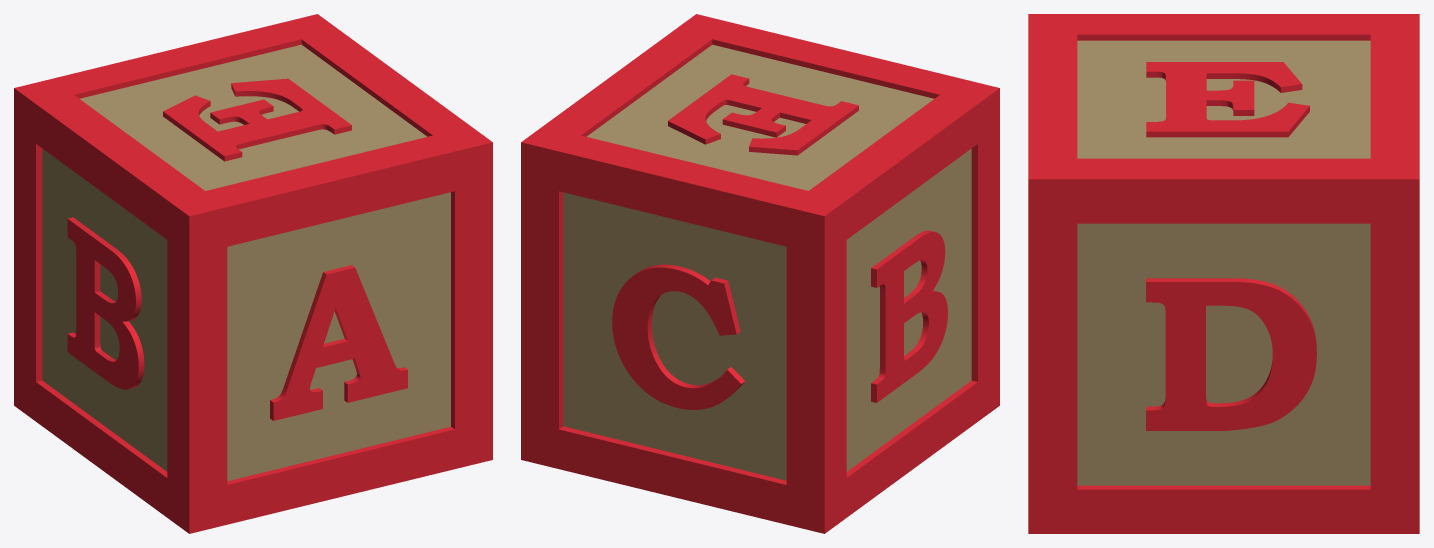
The model's file is ToyBlock.fbx.
The picture shows the model from 3 angles, left to right: view 1: azimuth 30°, elevation 25°; view 2: azimuth 150°, elevation 25°; view 3: azimuth 270°, elevation 25°; orthographic projection. The views are drawn at different scales.
Visible parts, largest first — view 1: Cube, Text.001, Text.002, Text.004; view 2: Cube, Text, Text.002, Text.004; view 3: Cube, Text.003, Text.004.
Part boxes in pixels (left/top/right/bottom): Cube: left=14, top=14, right=492, bottom=533; Text.001: left=270, top=265, right=407, bottom=420; Text.002: left=67, top=217, right=144, bottom=389; Text.004: left=163, top=78, right=351, bottom=161; Cube: left=521, top=14, right=999, bottom=533; Text: left=612, top=264, right=745, bottom=409; Text.002: left=871, top=230, right=947, bottom=402; Text.004: left=668, top=74, right=858, bottom=155; Cube: left=1028, top=14, right=1419, bottom=533; Text.003: left=1146, top=278, right=1316, bottom=430; Text.004: left=1146, top=62, right=1309, bottom=137.
Size of the model in its own units: 70.41 by 70.41 by 70.41.
